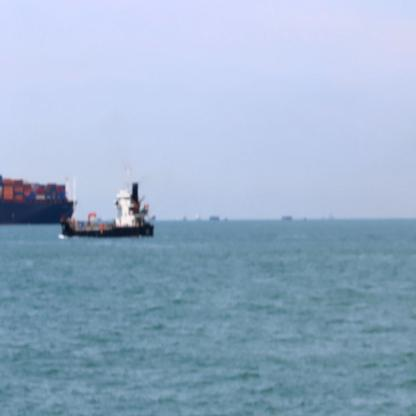Container Ship: (63, 163, 157, 241), (0, 167, 85, 229), (322, 208, 332, 223), (208, 212, 220, 224), (277, 212, 290, 223), (196, 210, 204, 224), (183, 210, 190, 224)
